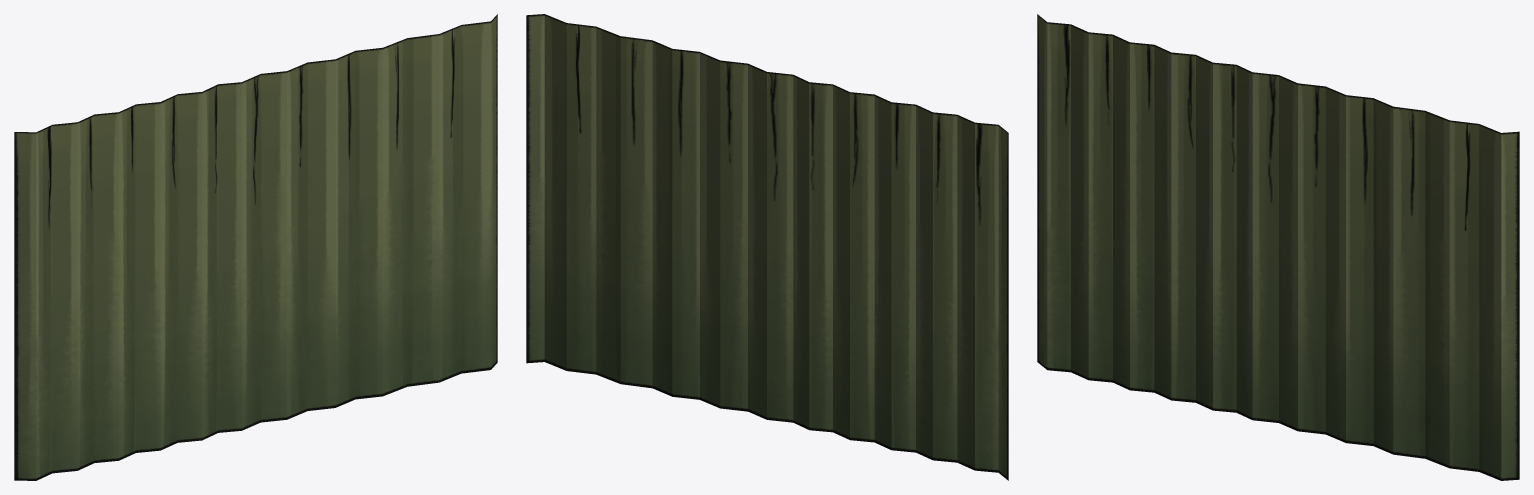
The model's file is curtain_livingroom.fbx.
The picture shows the model from 3 angles, left to right: view 1: azimuth 30°, elevation 25°; view 2: azimuth 150°, elevation 25°; view 3: azimuth 330°, elevation 25°; orthographic projection.
Parts seen in each view (by area): view 1: curtain_livingroom.001; view 2: curtain_livingroom.001; view 3: curtain_livingroom.001.
Boxes of the visible parts, x1,y1,x2,y2 form: curtain_livingroom.001: (14,14,497,480); curtain_livingroom.001: (526,14,1008,480); curtain_livingroom.001: (1037,14,1519,480).
Size of the model in its own units: 4.91 by 3.39 by 0.1038.
1 material, 1 textured.
